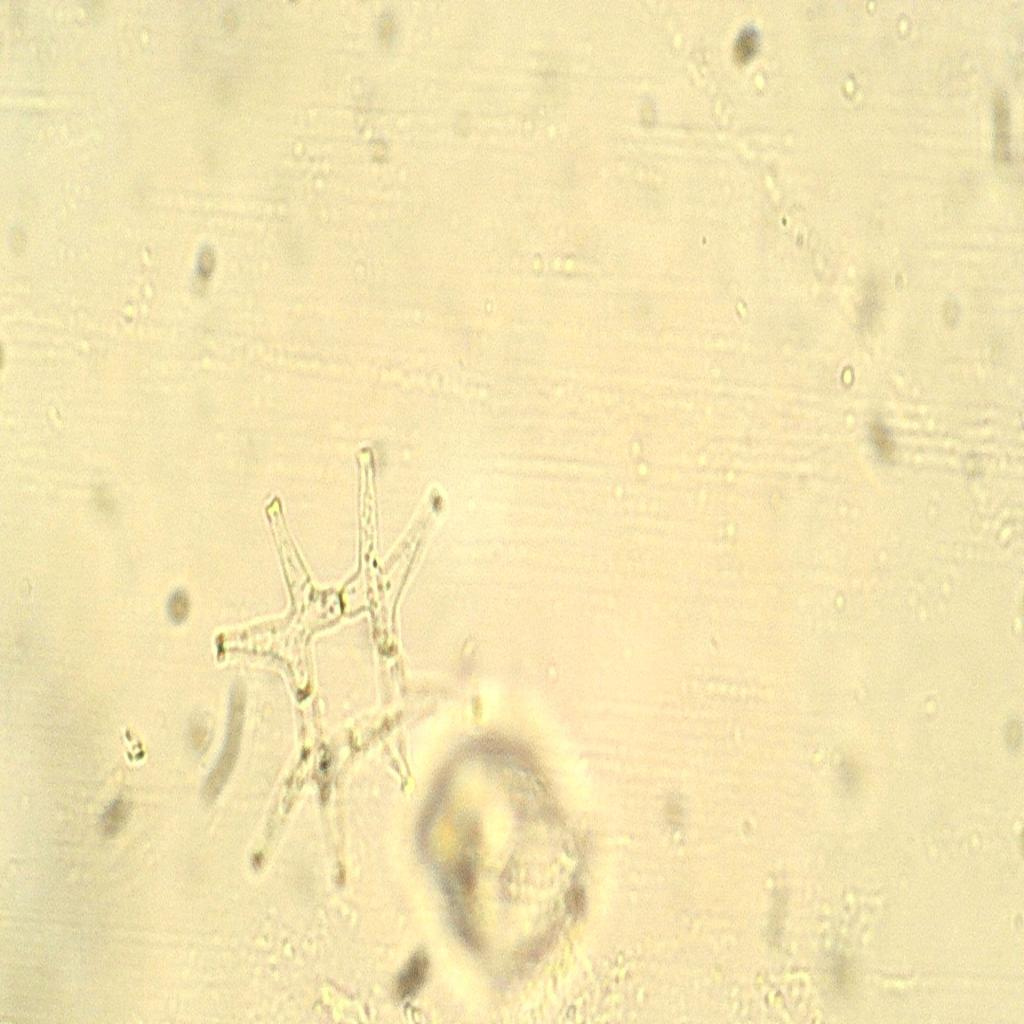Pediastrum_1F0: (173, 412, 491, 918)
